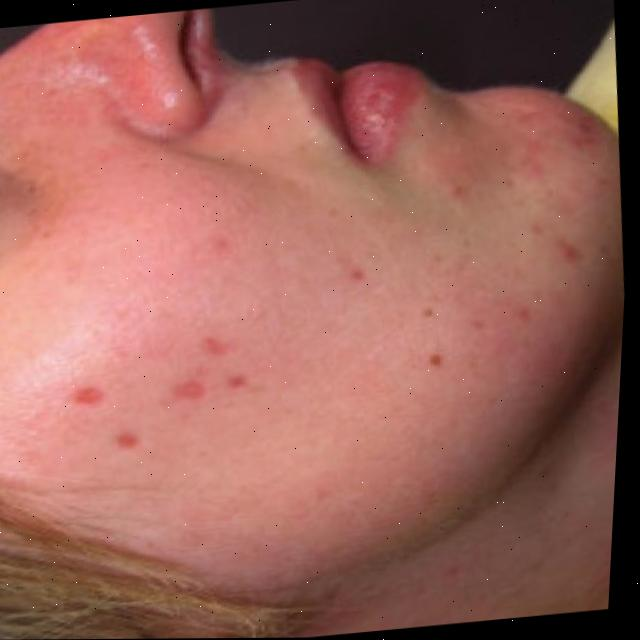Acne: (0, 180, 545, 529)
